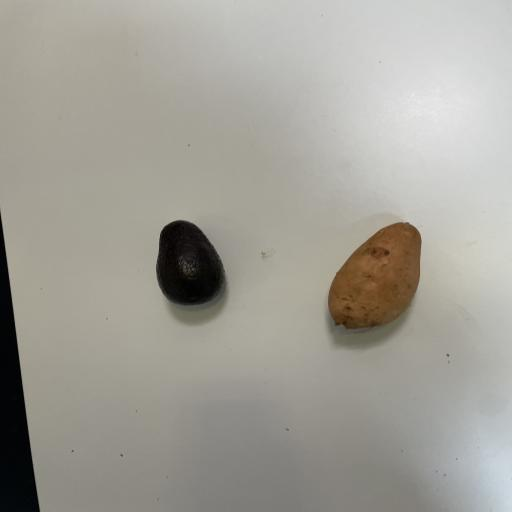avocado: (134, 212, 237, 316)
sweet_potato: (317, 216, 437, 340)
